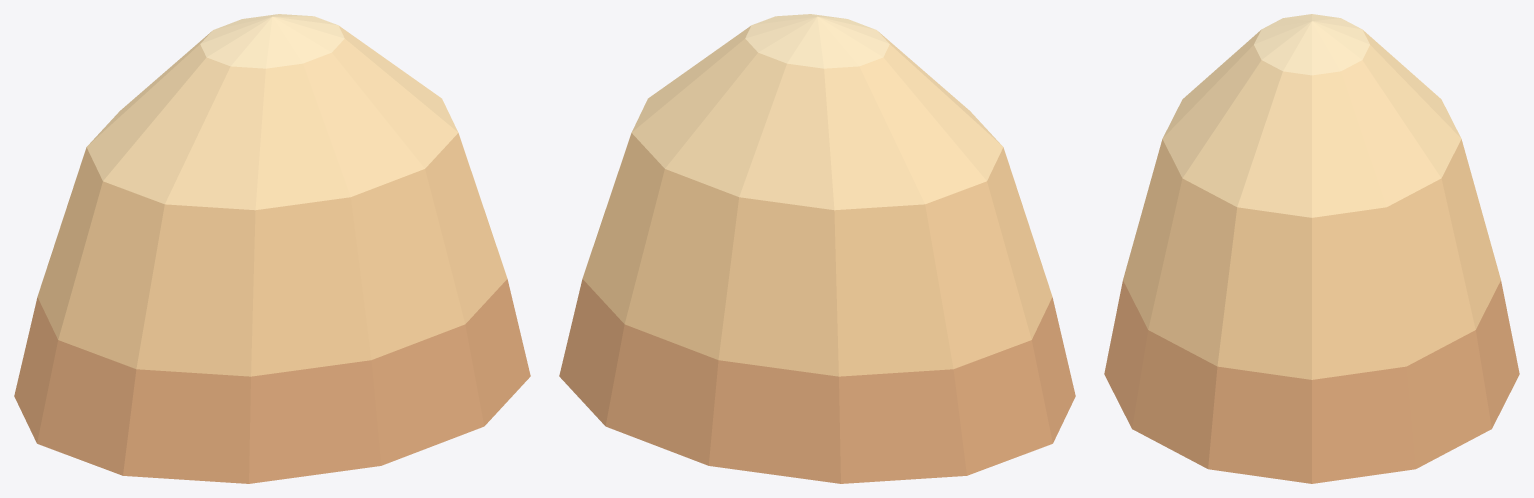
Rendered from desert-rock.glb.
3 renders of one model, left to right at view 1: azimuth 30°, elevation 25°; view 2: azimuth 150°, elevation 25°; view 3: azimuth 270°, elevation 25°, orthographic. The views are drawn at different scales.
Visible parts, largest first — view 1: Part1, Part0, Part2, Part3; view 2: Part1, Part0, Part2, Part3; view 3: Part1, Part0, Part2, Part3.
Boxes of the visible parts, x1,y1,x2,y2 form: Part1: [37, 133, 507, 376]; Part0: [14, 279, 530, 483]; Part2: [86, 26, 458, 210]; Part3: [200, 14, 344, 68]; Part1: [582, 133, 1052, 376]; Part0: [559, 279, 1075, 483]; Part2: [631, 26, 1003, 210]; Part3: [745, 14, 889, 68]; Part1: [1123, 139, 1500, 379]; Part0: [1104, 281, 1519, 483]; Part2: [1162, 29, 1461, 217]; Part3: [1254, 14, 1369, 75].
Size of the model in its own units: 10 by 7.5 by 8.
